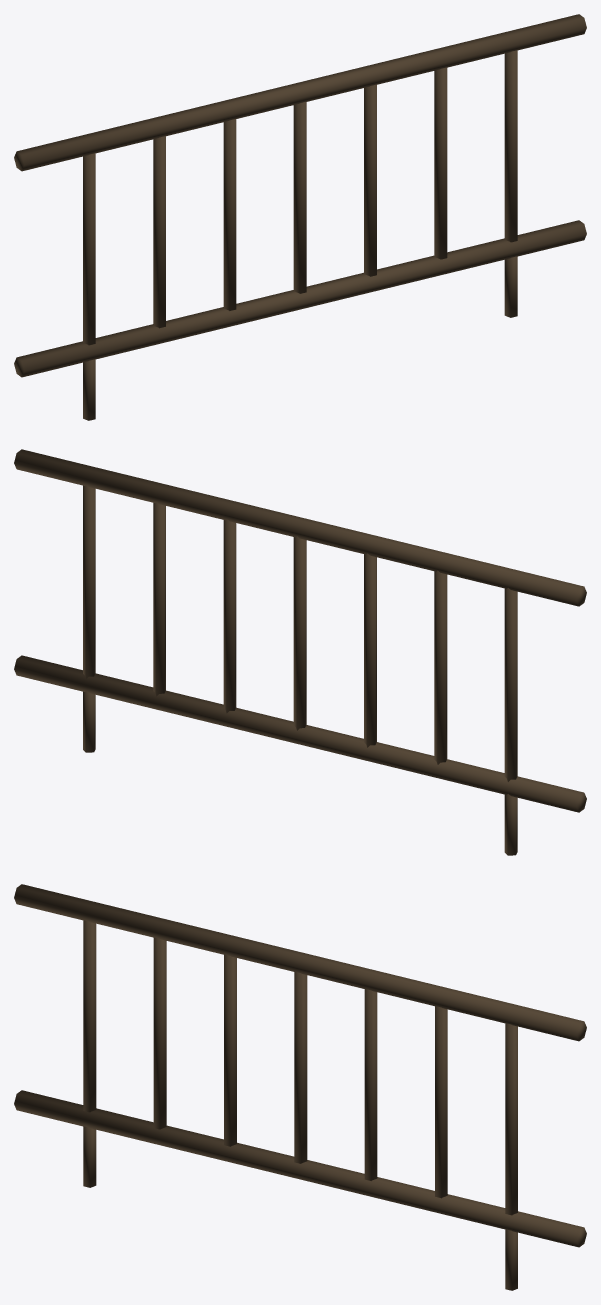
The model's file is railing_straight_2m.glb.
3 views of the same model, one above another, from view 1: azimuth 30°, elevation 25°; view 2: azimuth 150°, elevation 25°; view 3: azimuth 330°, elevation 25° (orthographic).
Visible parts, largest first — view 1: railing_straight_2m; view 2: railing_straight_2m; view 3: railing_straight_2m.
Part boxes in pixels (x1,y1,x2,y2): railing_straight_2m: [14, 14, 586, 420]; railing_straight_2m: [14, 449, 586, 855]; railing_straight_2m: [14, 884, 586, 1290].
Bounding box in the file's own units: 2 × 0.9577 × 0.064.
